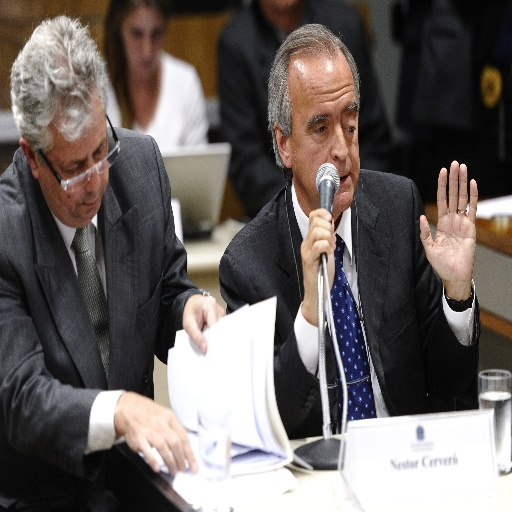hand: (418, 159, 477, 284), (123, 395, 198, 474), (298, 205, 337, 310), (181, 295, 224, 353)
